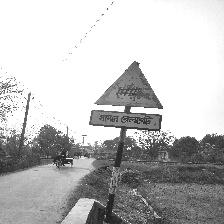Rail-crossing: (91, 61, 164, 131)
